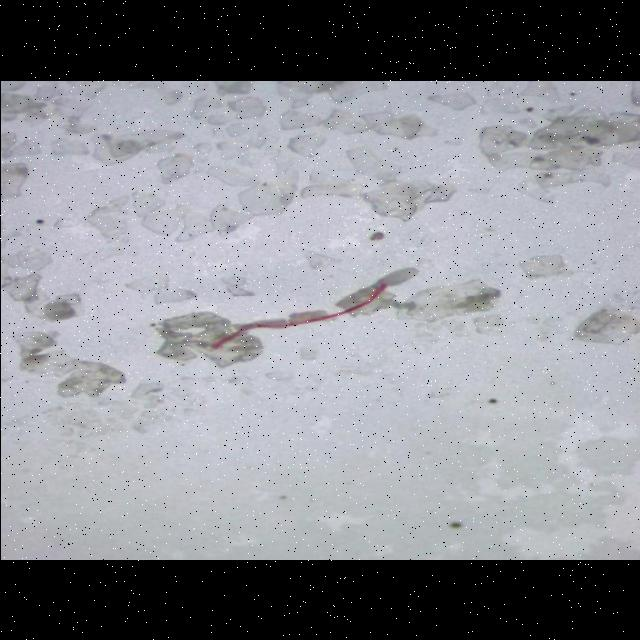Fibre: (204, 276, 392, 350)
